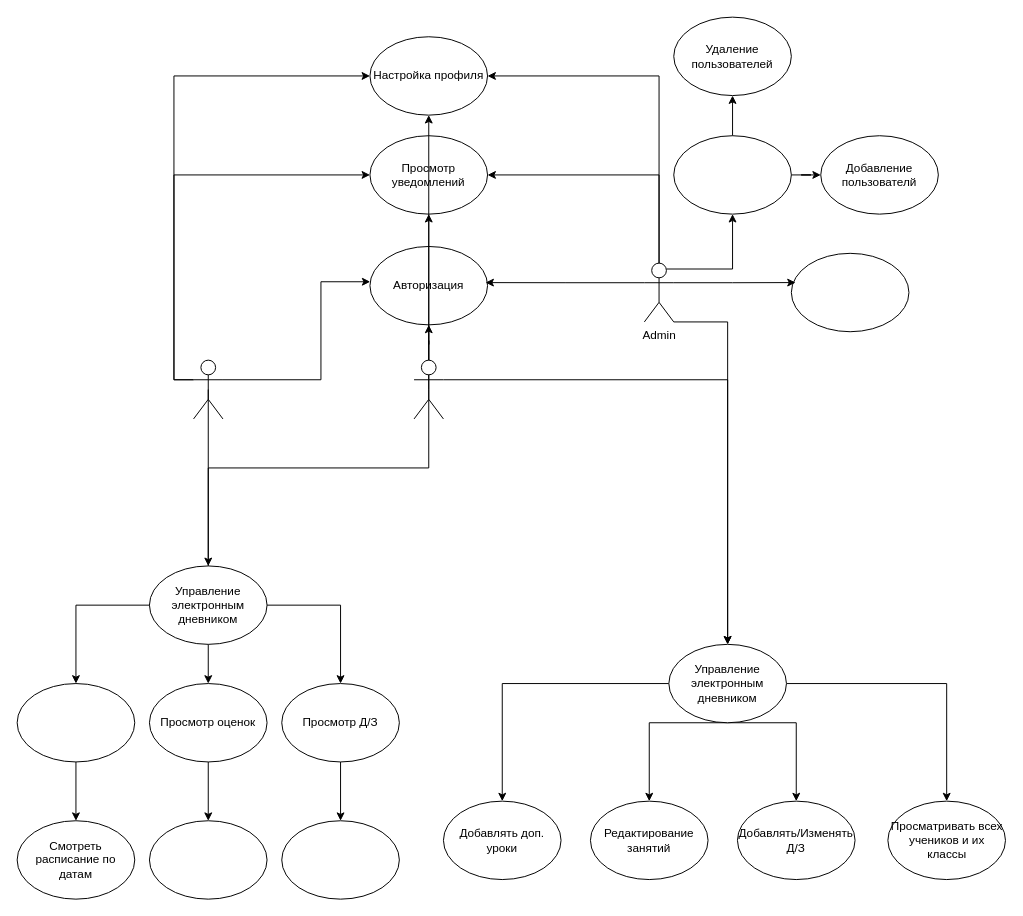
This 1023x916 diagram has some shape labels left out. Each missing label, with the centre of its shape:
"Student" belongs at [208,389].
"Teacher" belongs at [428,389].
"Выбирать предстоящие задания и прошедшие" belongs at [340,859].
"Показать оценки по датам или по предметам" belongs at [207,859].
"Просмотр расписания" belongs at [75,722].
"Управление пользователями" belongs at [732,174].
"Управление ролями" belongs at [849,292].
